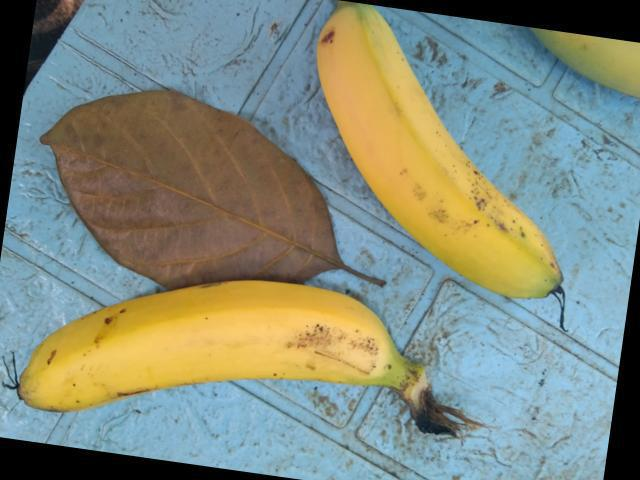freshripe: (18, 262, 442, 479)
ripe: (299, 0, 548, 285)
